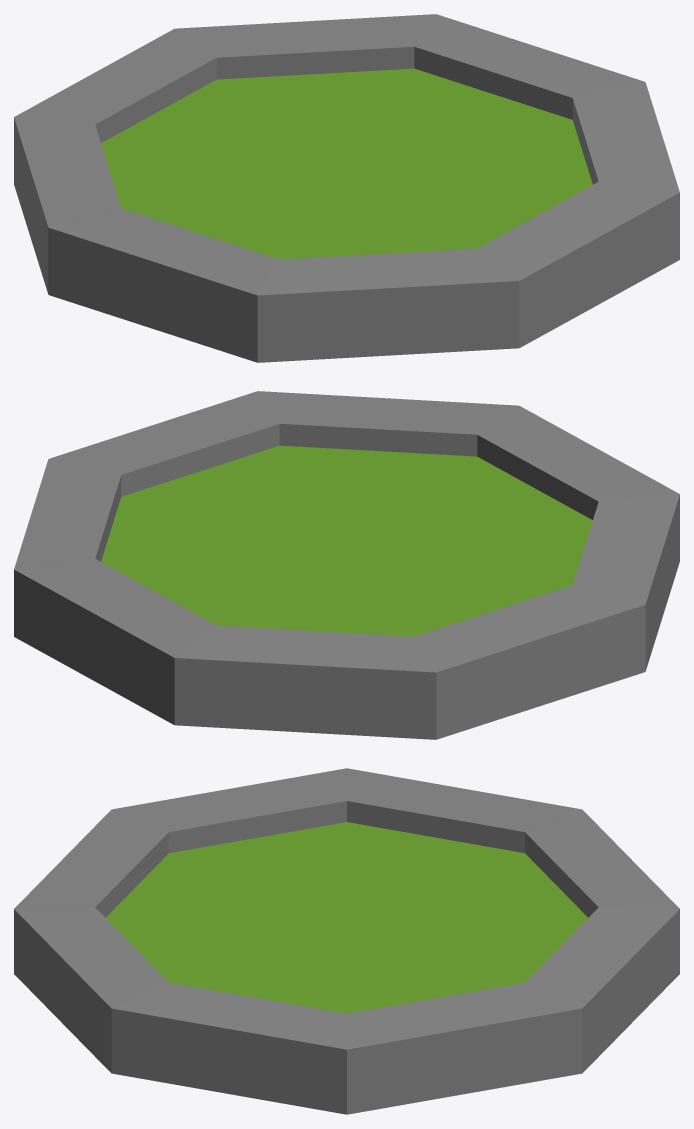
File: Park3.fbx
3 views of the same model, one above another, from view 1: azimuth 30°, elevation 25°; view 2: azimuth 150°, elevation 25°; view 3: azimuth 270°, elevation 25° (orthographic). The views are drawn at different scales.
Visible parts, largest first — view 1: Park2.001; view 2: Park2.001; view 3: Park2.001.
Part boxes in pixels (x1,y1,x2,y2): Park2.001: [14, 14, 679, 362]; Park2.001: [14, 391, 679, 739]; Park2.001: [14, 768, 679, 1114].
Size of the model in its own units: 162 by 17.85 by 162.
